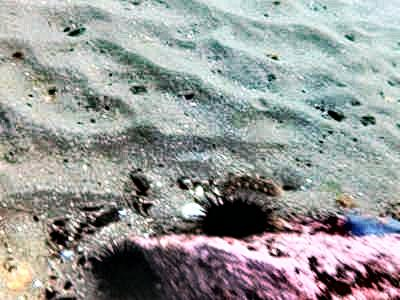urchin: (83, 236, 167, 293), (191, 191, 268, 241)
